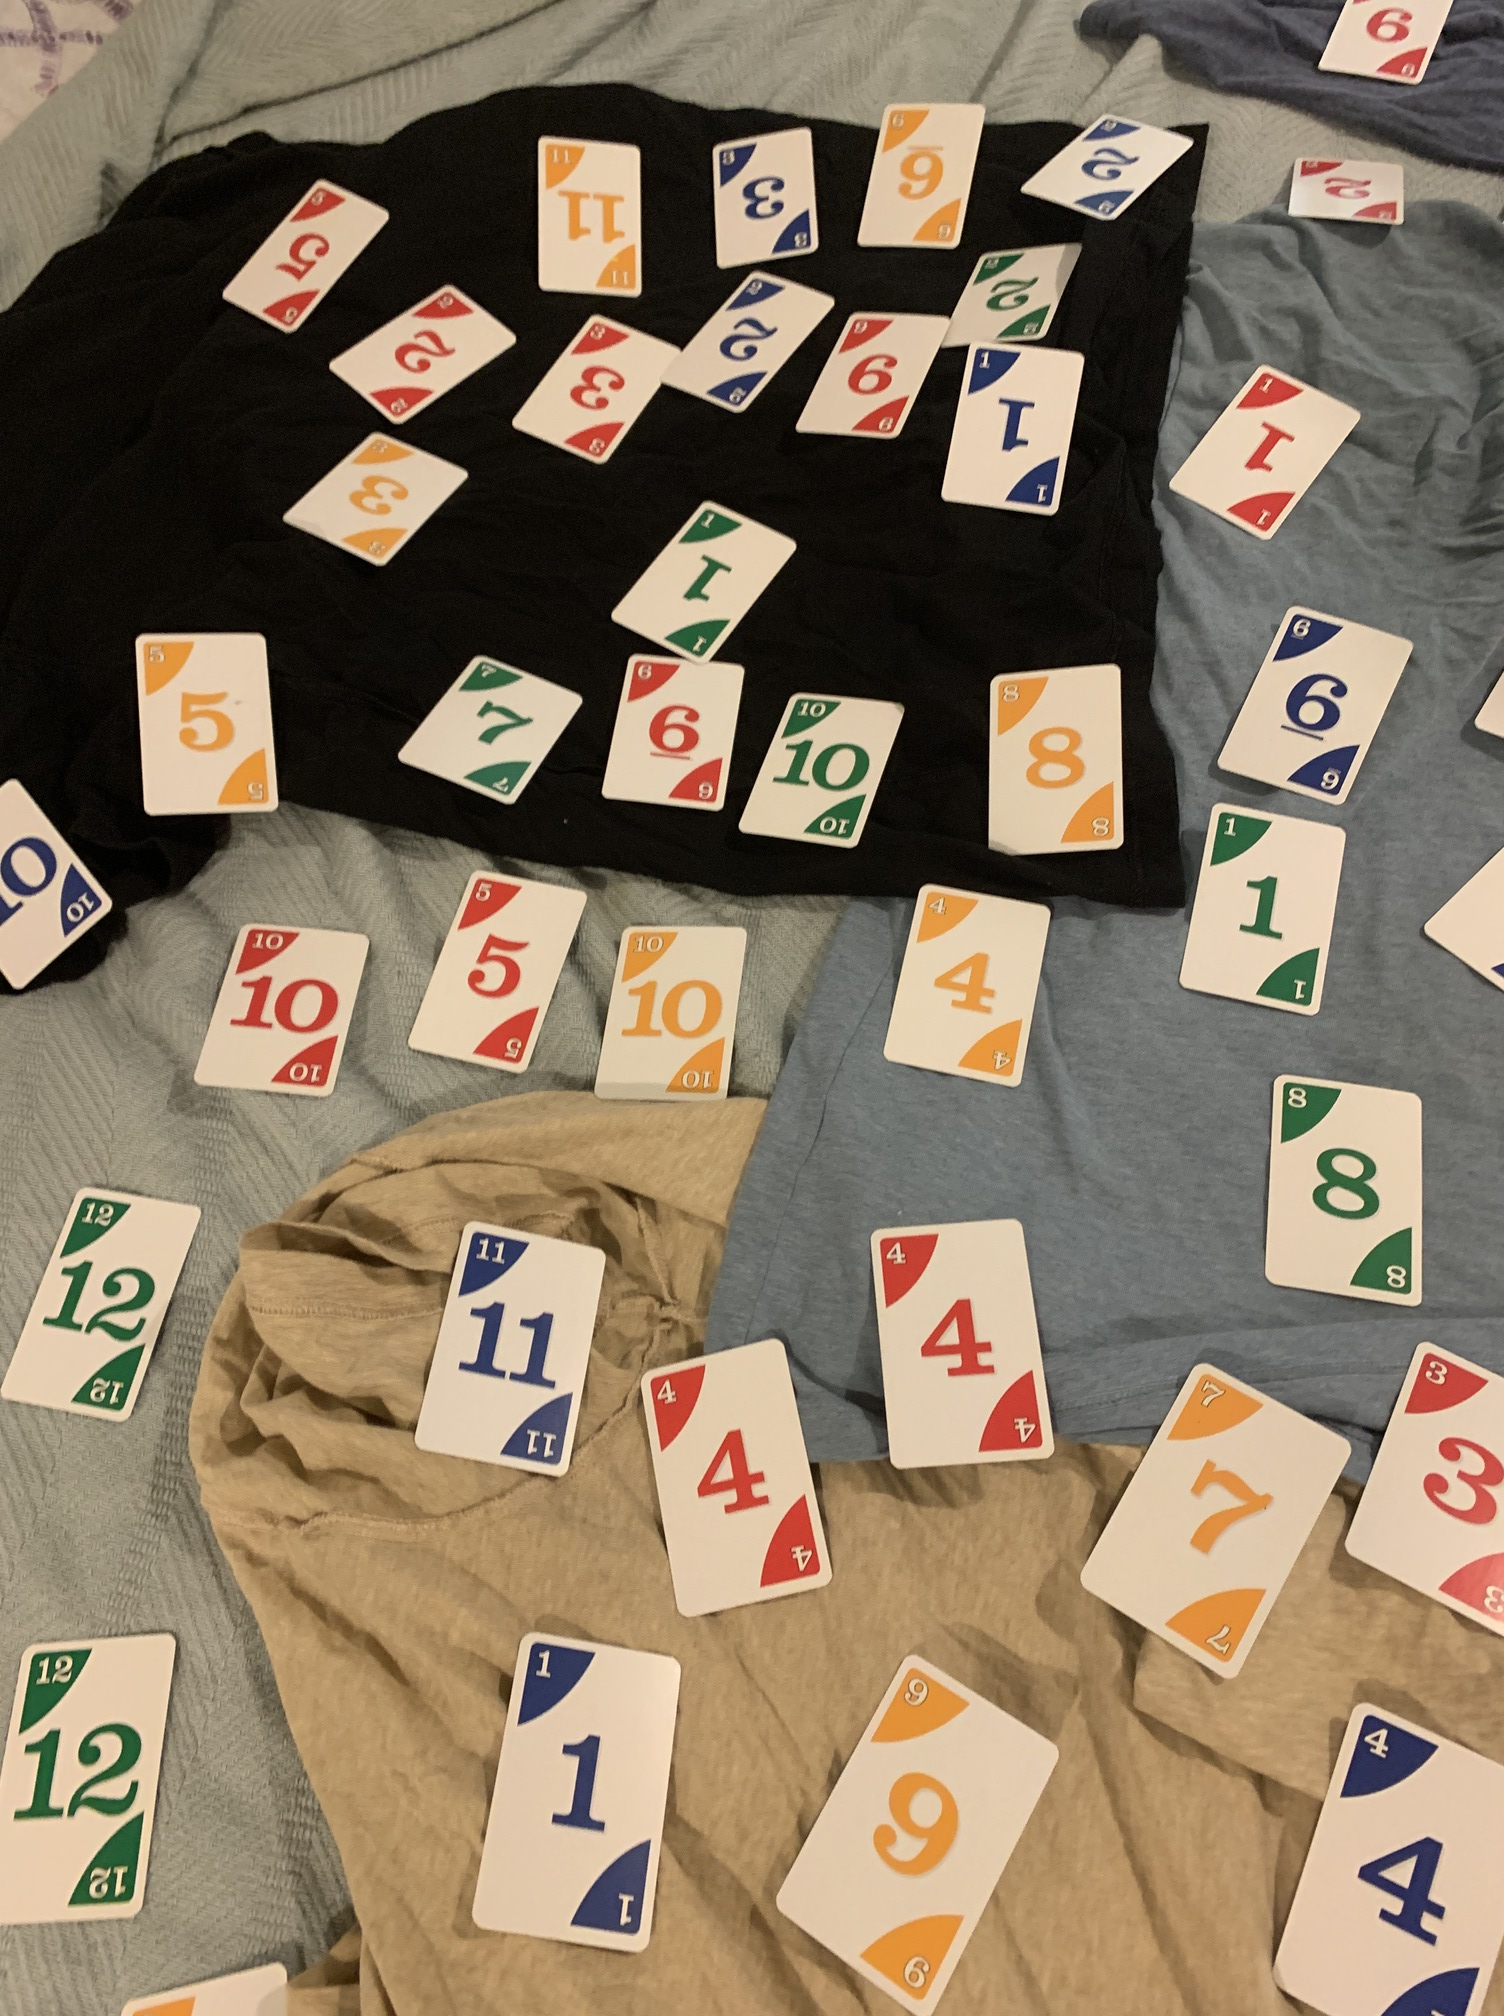eight: (1246, 1068, 1431, 1310), (967, 656, 1130, 858)
eleven: (403, 1218, 619, 1491)
five: (117, 611, 284, 825), (415, 872, 581, 1081)
four: (1254, 1698, 1504, 1995), (627, 1330, 844, 1626), (848, 1205, 1071, 1488), (878, 875, 1054, 1093)
nine: (771, 1657, 1082, 2016)
one: (450, 1623, 686, 1969), (1175, 804, 1349, 1024), (605, 499, 806, 668)
seven: (1073, 1354, 1349, 1695), (389, 632, 591, 822)
six: (1201, 600, 1417, 799), (592, 641, 743, 834)
ten: (186, 916, 378, 1108), (578, 912, 755, 1108), (727, 687, 912, 858)
three: (1343, 1338, 1504, 1646)
twelve: (2, 1607, 185, 1932), (3, 1180, 205, 1431)
